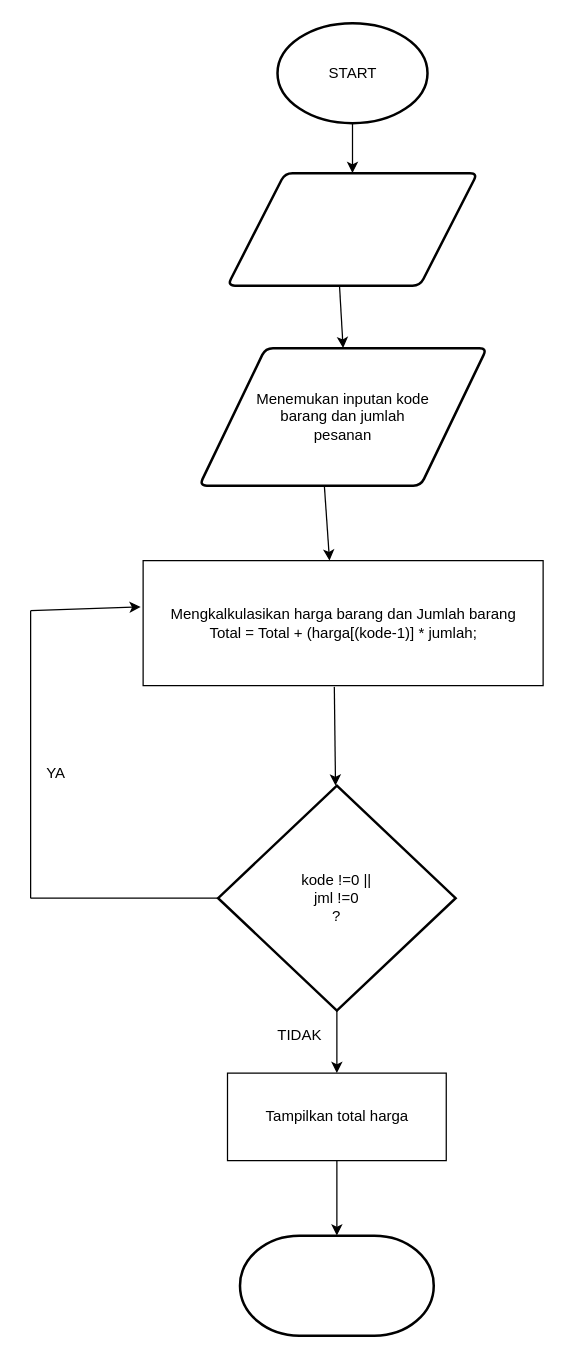
This 565x1358 diagram has some shape labels left out. The shapes that lost their labels are listed below. From the top down, each one's centre as x and y in pixels, then its label:
the point at 352,228: Tampilan harga barang dan intruksi
the point at 336,1285: Stop
